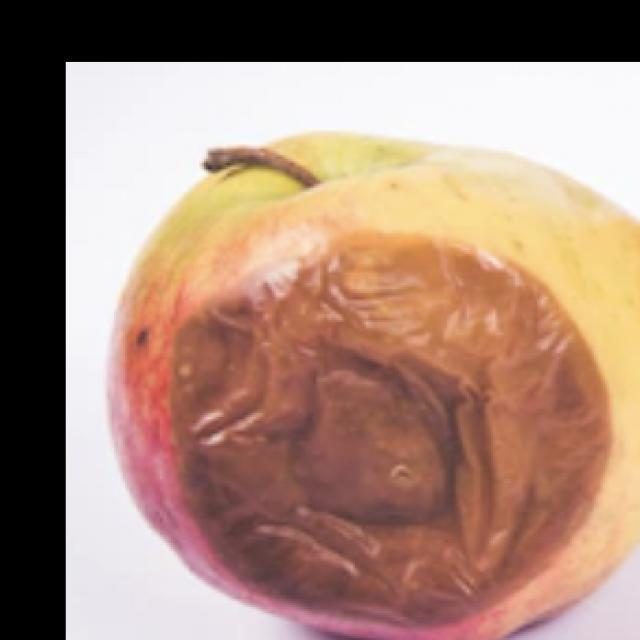Rotten: (106, 128, 640, 640)
